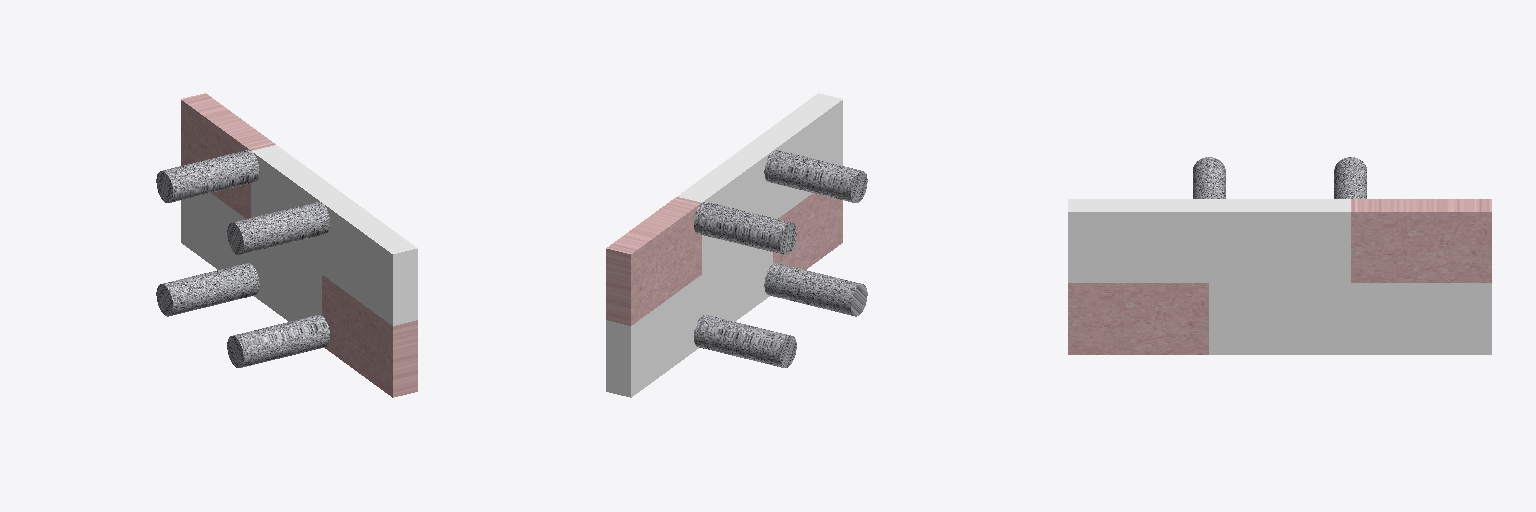
3 views of the same model, side by side, from view 1: azimuth 30°, elevation 25°; view 2: azimuth 150°, elevation 25°; view 3: azimuth 270°, elevation 25° (orthographic).
Visible parts, largest first — view 1: Object.9, Object.10, Object.8, Object.6, Object.5, Object.3, Object.4, Object.2, Object.1, Object.7; view 2: Object.8, Object.7, Object.9, Object.6, Object.5, Object.1, Object.2, Object.4, Object.3, Object.10; view 3: Object.6, Object.8, Object.9, Object.5, Object.7, Object.10, Object.2, Object.4.
Boxes of the visible parts, <box> form: Object.9: <box>322,197,417,325</box>; Object.10: <box>322,275,417,397</box>; Object.8: <box>181,93,275,218</box>; Object.6: <box>251,145,346,273</box>; Object.5: <box>251,245,321,321</box>; Object.3: <box>156,263,259,316</box>; Object.4: <box>156,150,259,202</box>; Object.2: <box>227,202,329,254</box>; Object.1: <box>227,315,329,367</box>; Object.7: <box>181,193,250,269</box>; Object.8: <box>606,197,701,325</box>; Object.7: <box>606,275,701,397</box>; Object.9: <box>748,93,842,218</box>; Object.6: <box>677,145,772,273</box>; Object.5: <box>702,245,772,321</box>; Object.1: <box>764,263,867,316</box>; Object.2: <box>764,150,867,202</box>; Object.4: <box>694,202,796,254</box>; Object.3: <box>694,315,796,367</box>; Object.10: <box>773,193,842,269</box>; Object.6: <box>1209,199,1350,282</box>; Object.8: <box>1351,199,1491,282</box>; Object.9: <box>1068,199,1208,282</box>; Object.5: <box>1209,283,1350,354</box>; Object.7: <box>1351,283,1491,354</box>; Object.10: <box>1068,283,1208,354</box>; Object.2: <box>1193,157,1225,198</box>; Object.4: <box>1334,157,1366,198</box>.
Size of the model in its own units: 16.72 by 20.49 by 55.01.
Materials: 5 (2 with a texture image).